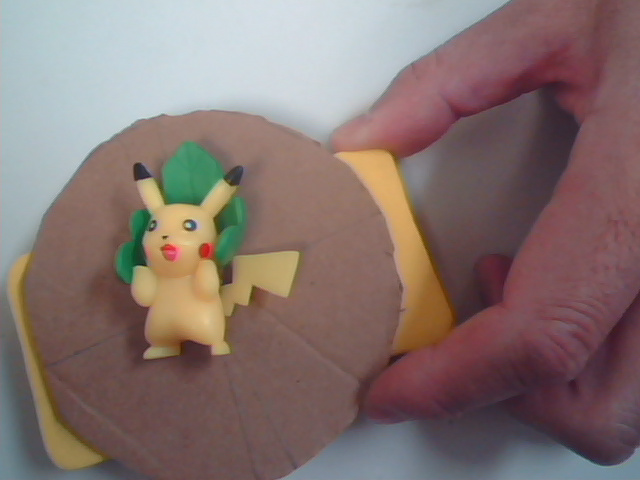pikachu: (86, 129, 339, 382)
